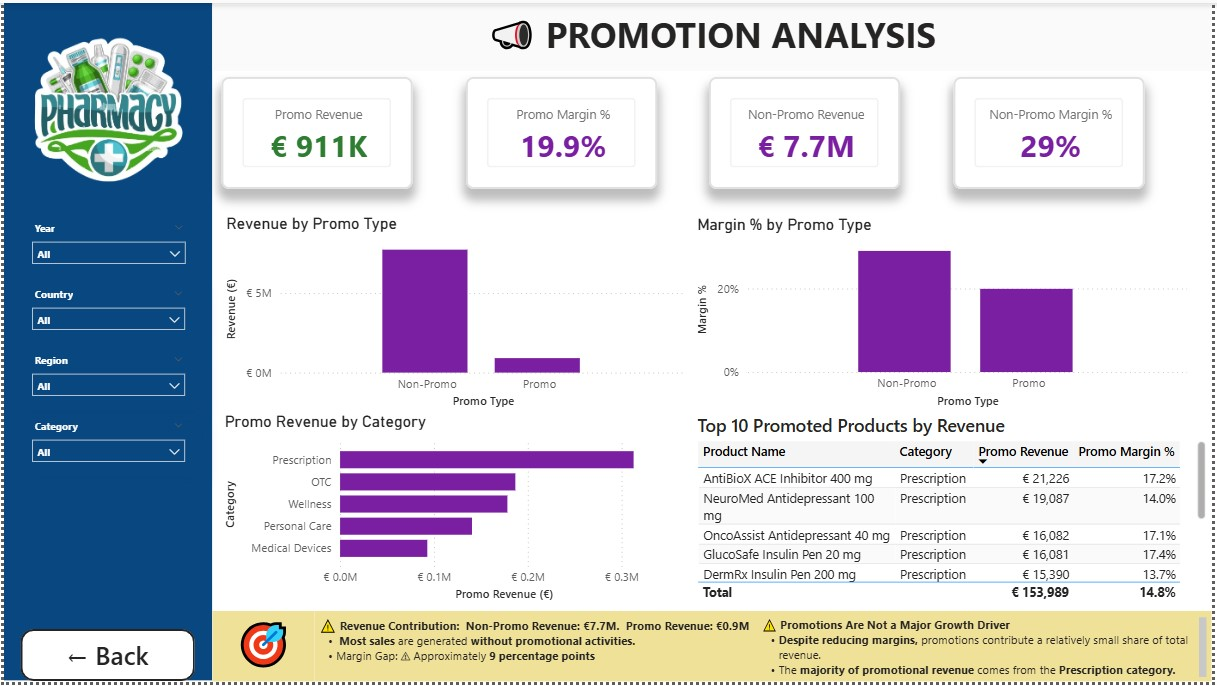

Layout of this report page (visuals, bound fields, positions):
{"tool":"powerbi","page":{"name":"Promotion","canvas":[1280,720],"ordinal":3},"visuals":[{"type":"textbox","box":[10,199,220,150],"z":0},{"type":"textbox","box":[0,0,220.7,719.6],"z":1000},{"type":"image","box":[0,0,220.7,238.8],"z":2000},{"type":"cardVisual","fields":{"Data":["_Measures.Promo Revenue"]},"box":[231.2,79.3,202.6,118.9],"z":3000},{"type":"cardVisual","fields":{"Data":["_Measures.Promo Margin %"]},"box":[489.6,79.3,202.6,118.9],"z":4000},{"type":"cardVisual","fields":{"Data":["_Measures.Non-Promo Revenue"]},"box":[747.9,79.3,202.6,118.9],"z":5000},{"type":"cardVisual","fields":{"Data":["_Measures.Non-Promo Margin %"]},"box":[1006.2,79.3,202.6,118.9],"z":6000},{"type":"actionButton","title":"Overview","box":[17.6,665,185,55],"z":7000},{"type":"slicer","fields":{"Values":["Calendar.Year"]},"box":[16.1,223.8,190,70],"z":8000},{"type":"slicer","fields":{"Values":["Sheet1.Country"]},"box":[16.3,293.8,189.6,70],"z":9000},{"type":"slicer","fields":{"Values":["Sheet1.Category"]},"box":[16.3,433.9,189.6,70],"z":10000},{"type":"slicer","fields":{"Values":["Sheet1.Region"]},"box":[16.3,363.9,189.6,70],"z":11000},{"type":"textbox","box":[220.4,3.4,1059.1,70],"z":12000},{"type":"barChart","fields":{"Category":["Sheet1.Category"],"Y":["_Measures.Promo Revenue"]},"box":[229.1,435,499.3,205.9],"z":13000},{"type":"clusteredColumnChart","title":"Revenue by Promo Type","fields":{"Category":["Sheet1.Promo Type"],"Y":["_Measures.Total Revenue"]},"box":[231,224.5,496.9,211.4],"z":14000},{"type":"columnChart","fields":{"Category":["Sheet1.Promo Type"],"Y":["_Measures.Margin %"]},"box":[730.1,226.7,529.6,209.2],"z":15000},{"type":"tableEx","title":"Top 10 Promoted Products by Revenue","fields":{"Values":["Sheet1.Product Name","Sheet1.Category","_Measures.Promo Revenue","_Measures.Promo Margin %"]},"box":[730.1,435.9,549.2,204.9],"z":16000},{"type":"textbox","box":[329.3,645.8,469.2,74.8],"z":17000},{"type":"textbox","box":[221.1,645.2,108.2,74.8],"z":18000},{"type":"textbox","box":[798.5,645.8,482,74.8],"z":19000}]}

Visuals, with their boxes in screenshot pixels (x1, y1, x2, y2), scaled from the page's 1280x720 canvas onto the 1217x686 screenshot:
textbox: (10,190,219,333)
textbox: (0,0,210,685)
image: (0,0,210,228)
cardVisual - _Measures.Promo Revenue: (220,76,412,189)
cardVisual - _Measures.Promo Margin %: (466,76,658,189)
cardVisual - _Measures.Non-Promo Revenue: (711,76,904,189)
cardVisual - _Measures.Non-Promo Margin %: (957,76,1149,189)
"Overview" actionButton: (17,634,193,685)
slicer - Calendar.Year: (15,213,196,280)
slicer - Sheet1.Country: (15,280,196,347)
slicer - Sheet1.Category: (15,413,196,480)
slicer - Sheet1.Region: (15,347,196,413)
textbox: (210,3,1216,70)
barChart - Sheet1.Category x _Measures.Promo Revenue: (218,414,693,611)
"Revenue by Promo Type" clusteredColumnChart: (220,214,692,415)
columnChart - Sheet1.Promo Type x _Measures.Margin %: (694,216,1198,415)
"Top 10 Promoted Products by Revenue" tableEx: (694,415,1216,611)
textbox: (313,615,759,685)
textbox: (210,615,313,685)
textbox: (759,615,1216,685)
